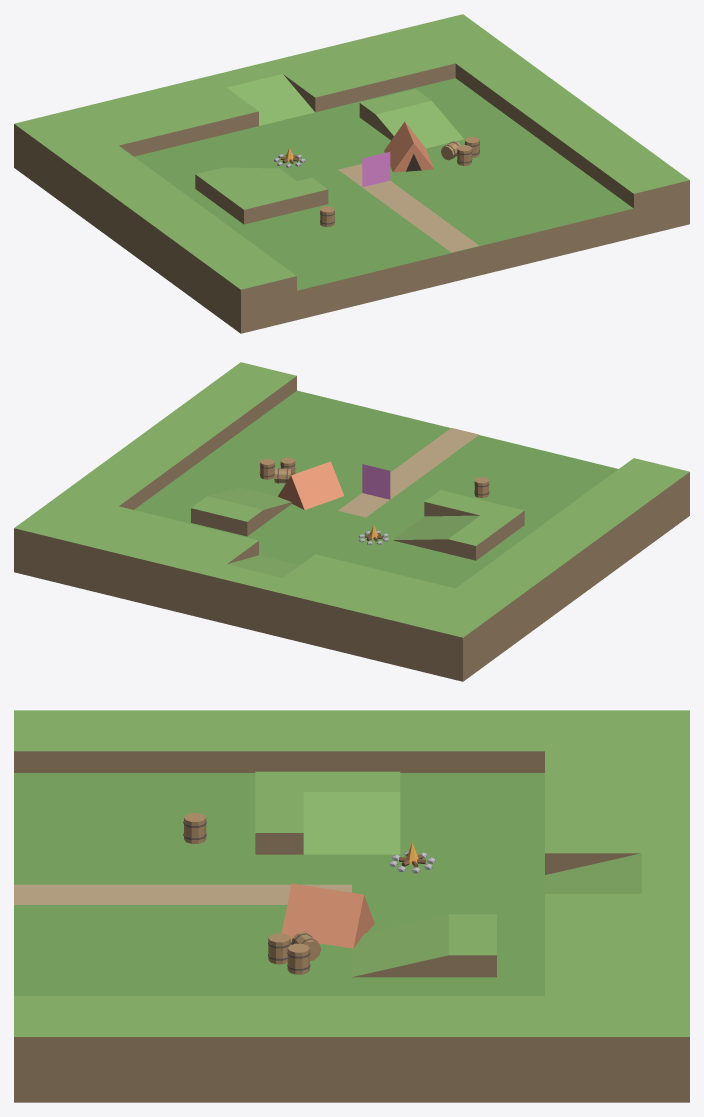
File: uvod.fbx
3 renders of one model, top to bottom at view 1: azimuth 30°, elevation 25°; view 2: azimuth 150°, elevation 25°; view 3: azimuth 270°, elevation 25°, orthographic. The views are drawn at different scales.
Parts seen in each view (by area): view 1: Terrain, Path, Tent, Sprite_64px_ref; view 2: Terrain, Path, Tent, Sprite_64px_ref; view 3: Terrain, Path, Tent, Barrel.001, Barrel.003.
Boxes of the visible parts, box(x1,y1,x2,y2) form: Terrain: box(14, 14, 689, 333); Path: box(338, 164, 478, 252); Tent: box(384, 121, 433, 172); Sprite_64px_ref: box(362, 152, 390, 187); Terrain: box(14, 362, 689, 681); Path: box(338, 428, 478, 517); Tent: box(277, 461, 343, 509); Sprite_64px_ref: box(362, 464, 390, 499); Terrain: box(14, 710, 689, 1102); Path: box(14, 884, 351, 904); Tent: box(281, 883, 374, 948); Barrel.001: box(287, 943, 309, 974); Barrel.003: box(184, 813, 206, 843).
Bounding box in the file's own units: 3200 × 400 × 2800.
